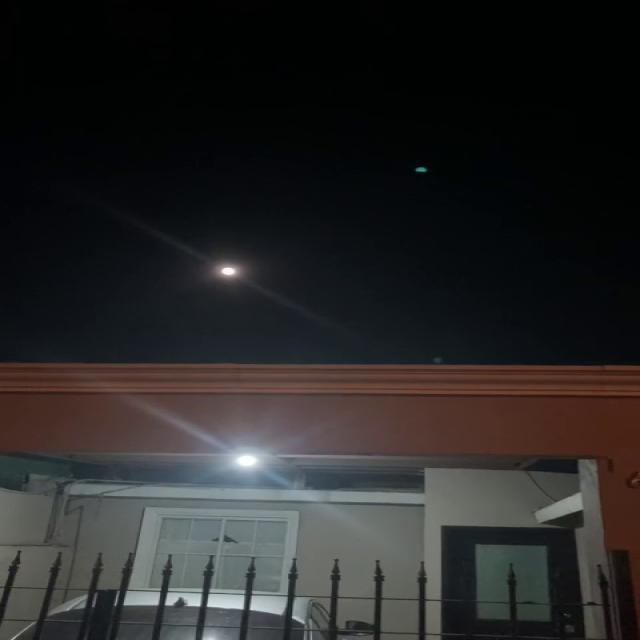moon: (214, 260, 243, 274)
